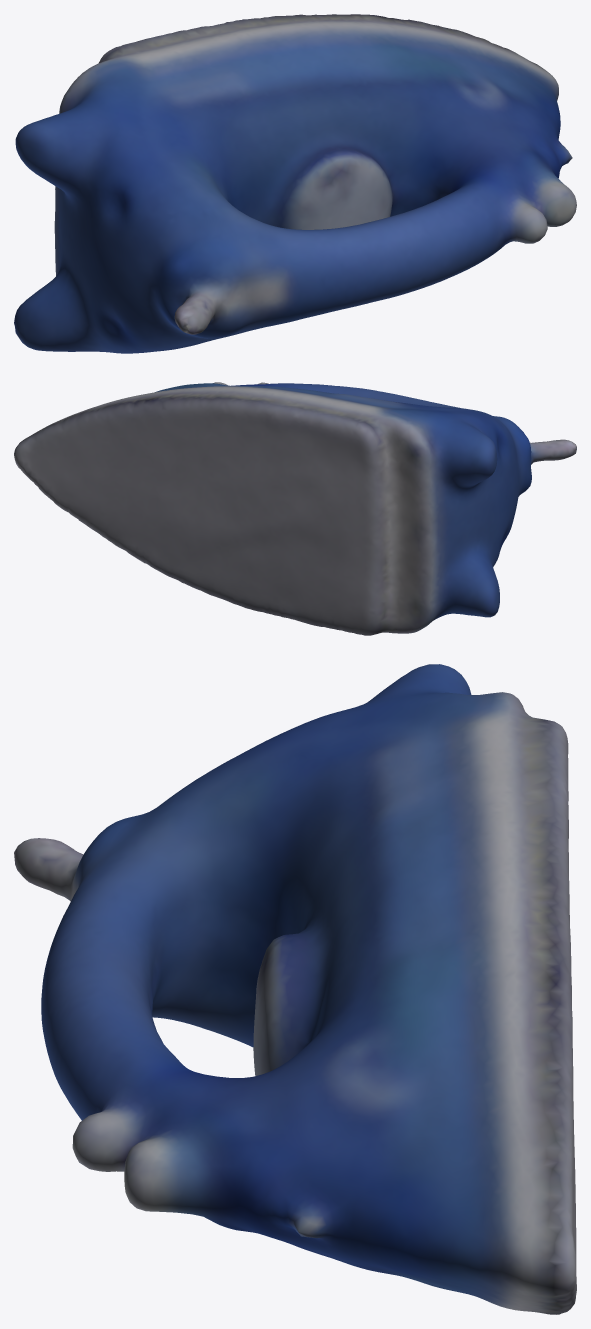
File: iron.dae
3 renders of one model, top to bottom at view 1: azimuth 30°, elevation 25°; view 2: azimuth 150°, elevation 25°; view 3: azimuth 270°, elevation 25°, orthographic. The views are drawn at different scales.
Visible parts, largest first — view 1: model; view 2: model; view 3: model.
Boxes of the visible parts, bbox=[...] form: model: bbox=[14, 14, 576, 353]; model: bbox=[14, 382, 576, 635]; model: bbox=[14, 664, 576, 1314].
Size of the model in its own units: 258 by 118 by 141.
